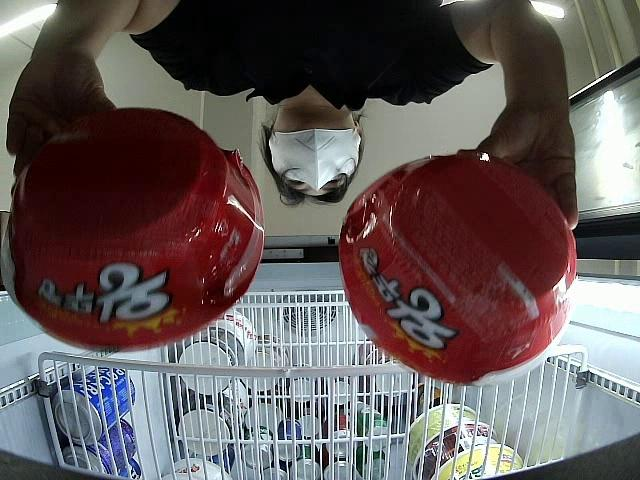00_hand: (9, 59, 117, 202)
10_wangTtukkeong: (0, 107, 264, 350), (335, 150, 575, 383)
